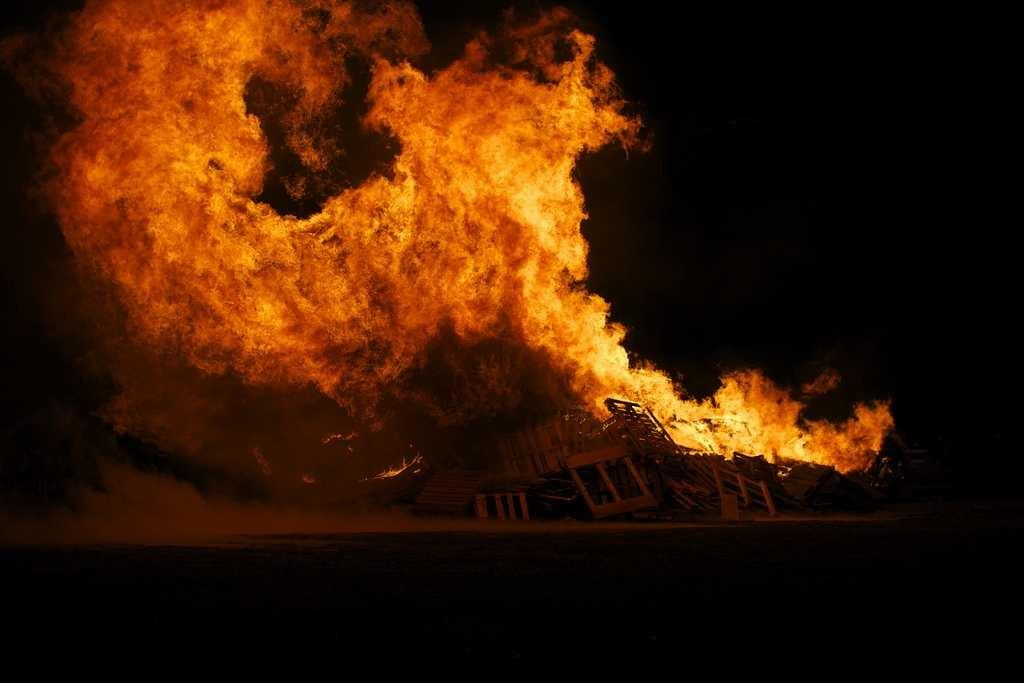fire: (100, 2, 252, 275), (408, 102, 562, 320), (263, 223, 388, 358), (727, 388, 782, 450)
